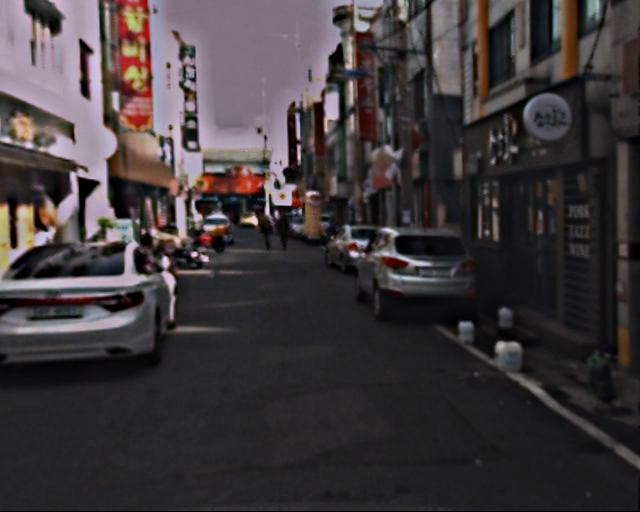person: (275, 205, 295, 253), (261, 209, 277, 248)
